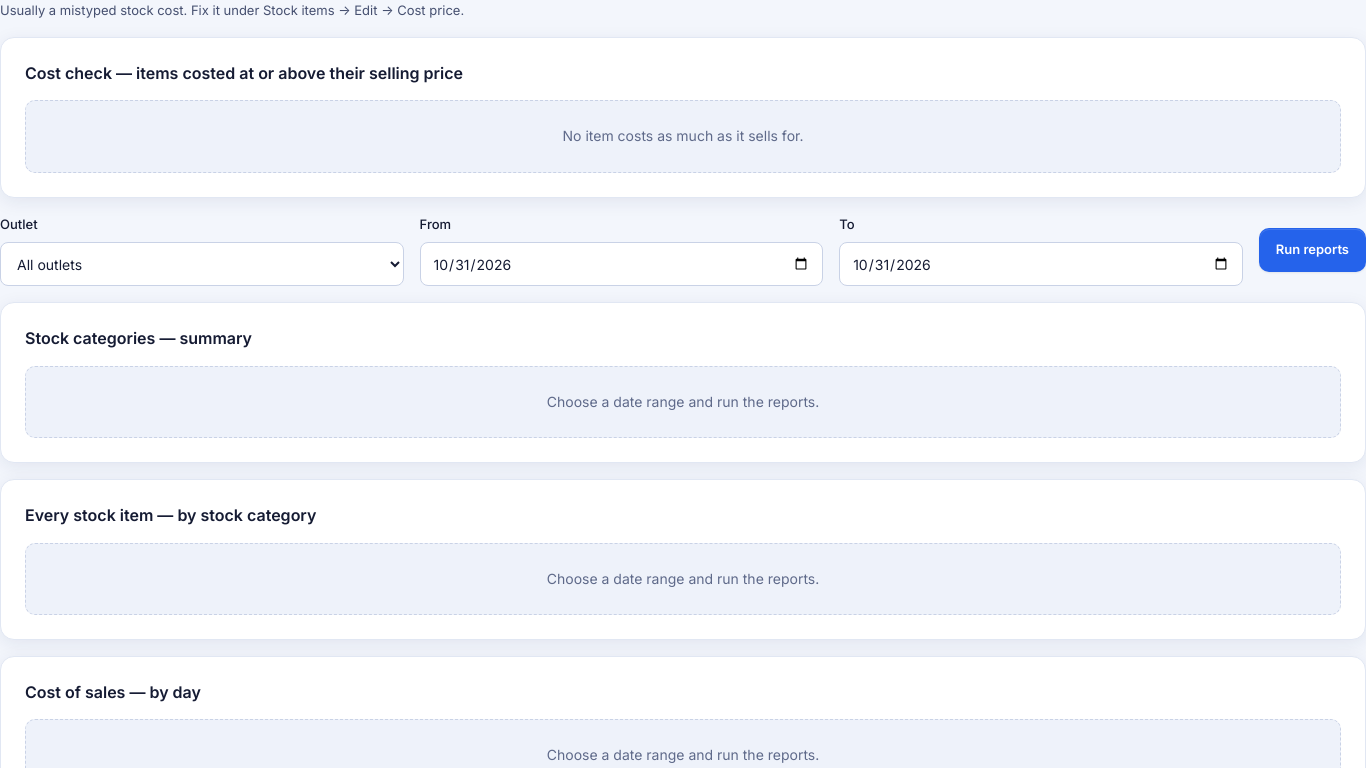
Test case: <StockReportsTab> › margin report (gap closure) › shows revenue, cost, and margin per menu item, and rolled up by category
The width and height of the screenshot is (1366, 768).
Click the button "Run reports": (1312, 250) [1259, 228, 1365, 272]
(page scrolled)
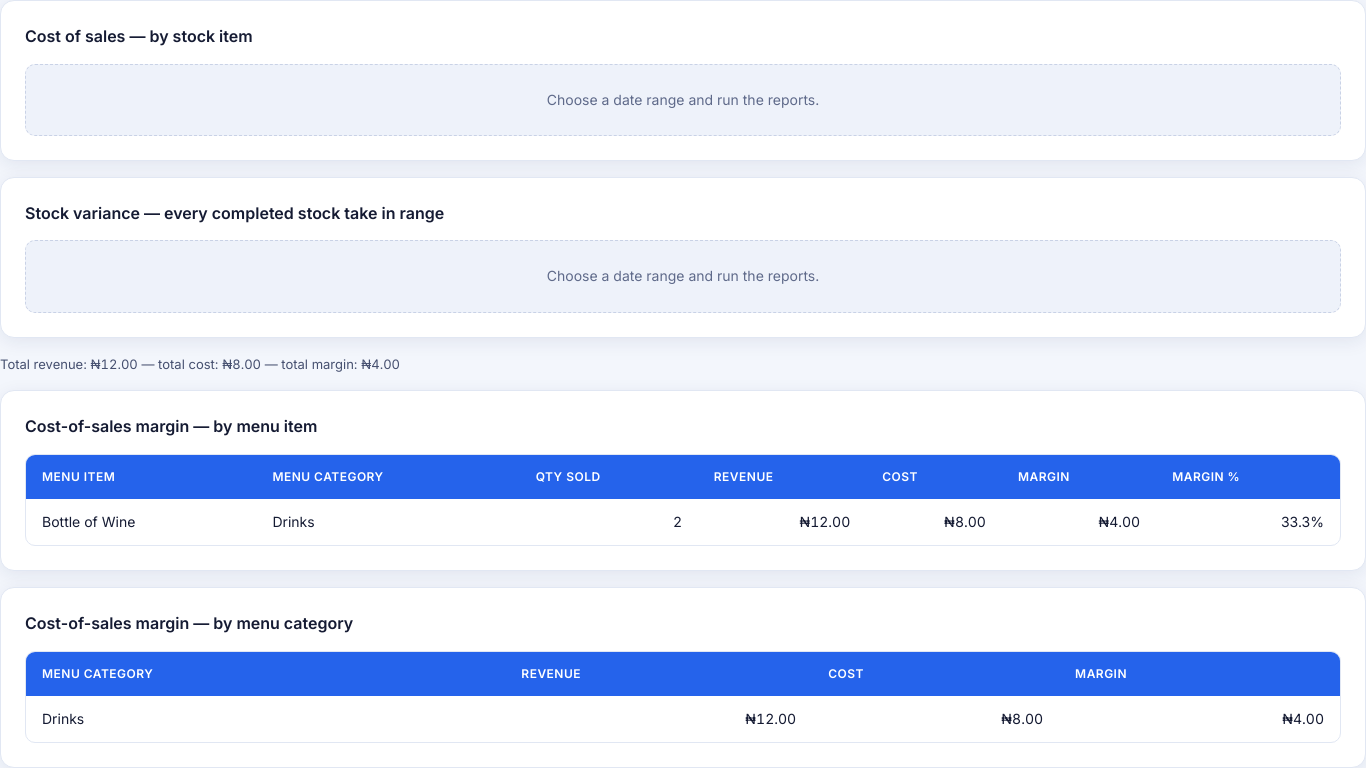
Now the text "Total revenue" is shown, box [0, 356, 91, 372]
Now the text "Bottle of Wine" is shown, box [26, 498, 256, 545]
Now the text "33.3%" is shown, box [1156, 498, 1340, 545]
